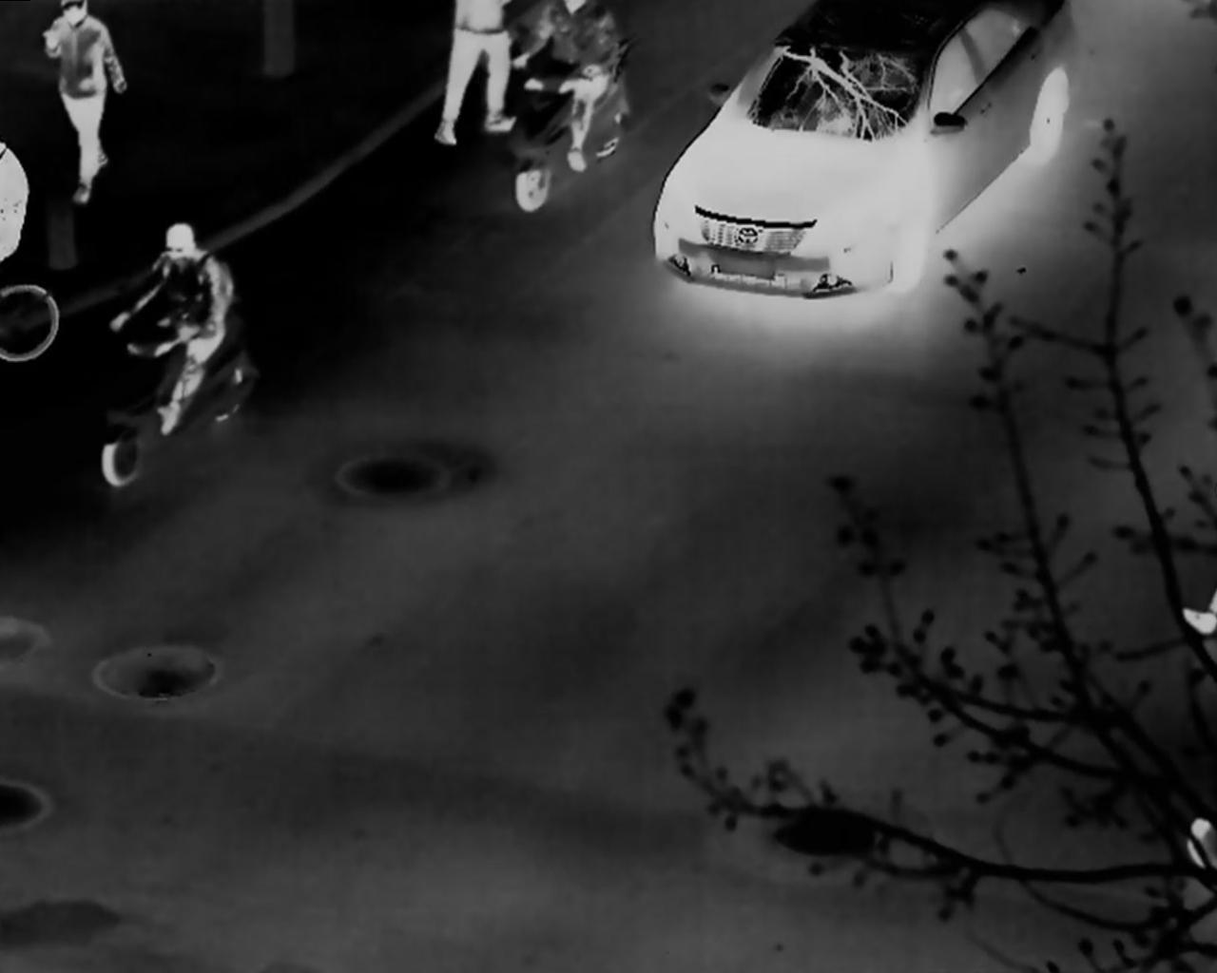person: (111, 219, 233, 435), (512, 2, 620, 173)
